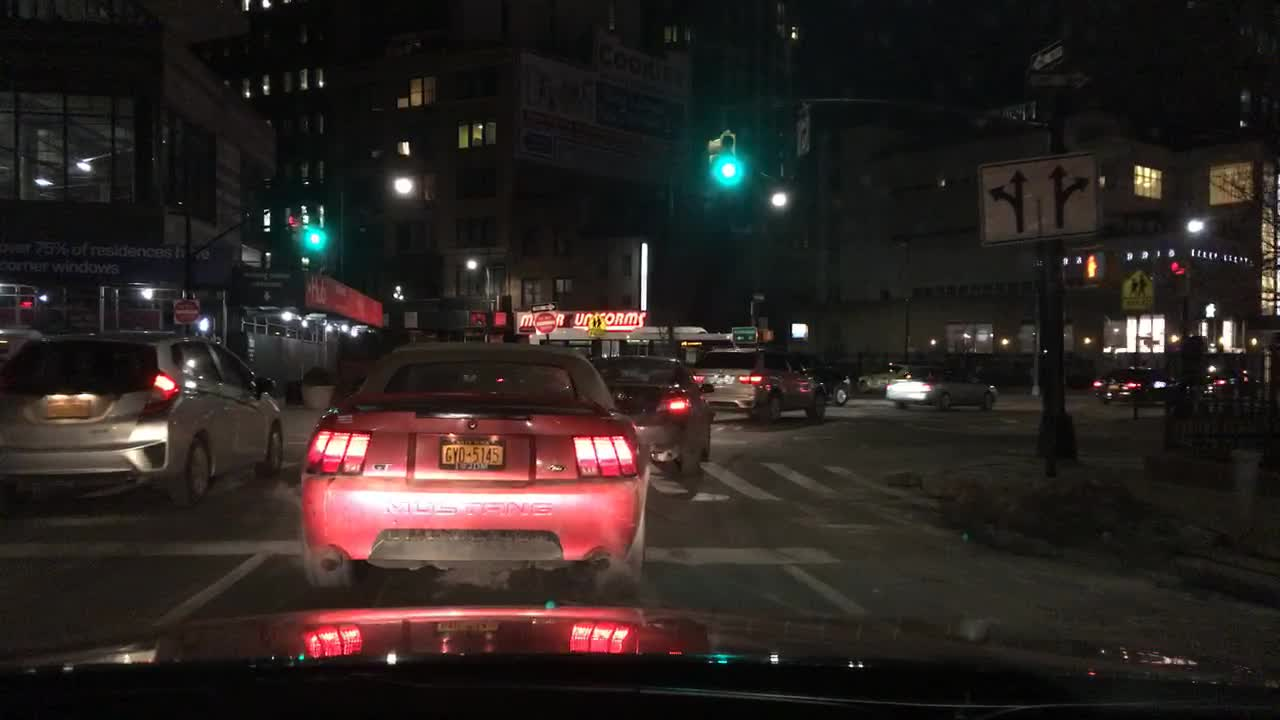car: (299, 342, 648, 598), (0, 330, 288, 508), (586, 353, 715, 472), (690, 345, 828, 424), (885, 365, 999, 412), (1093, 367, 1186, 407), (799, 364, 851, 406), (1198, 367, 1262, 396), (856, 362, 912, 395), (1027, 68, 1088, 88), (1027, 41, 1065, 71)
traffic light: (719, 134, 738, 181), (1084, 250, 1105, 284), (707, 137, 721, 176), (308, 219, 323, 253), (1171, 261, 1187, 292), (197, 315, 210, 330), (1205, 302, 1217, 317)
traffic sign: (977, 149, 1100, 249), (1121, 269, 1154, 310), (172, 297, 194, 324), (533, 310, 557, 334), (288, 215, 304, 250), (731, 326, 758, 345), (588, 312, 608, 337), (403, 310, 417, 329), (529, 302, 558, 310)
